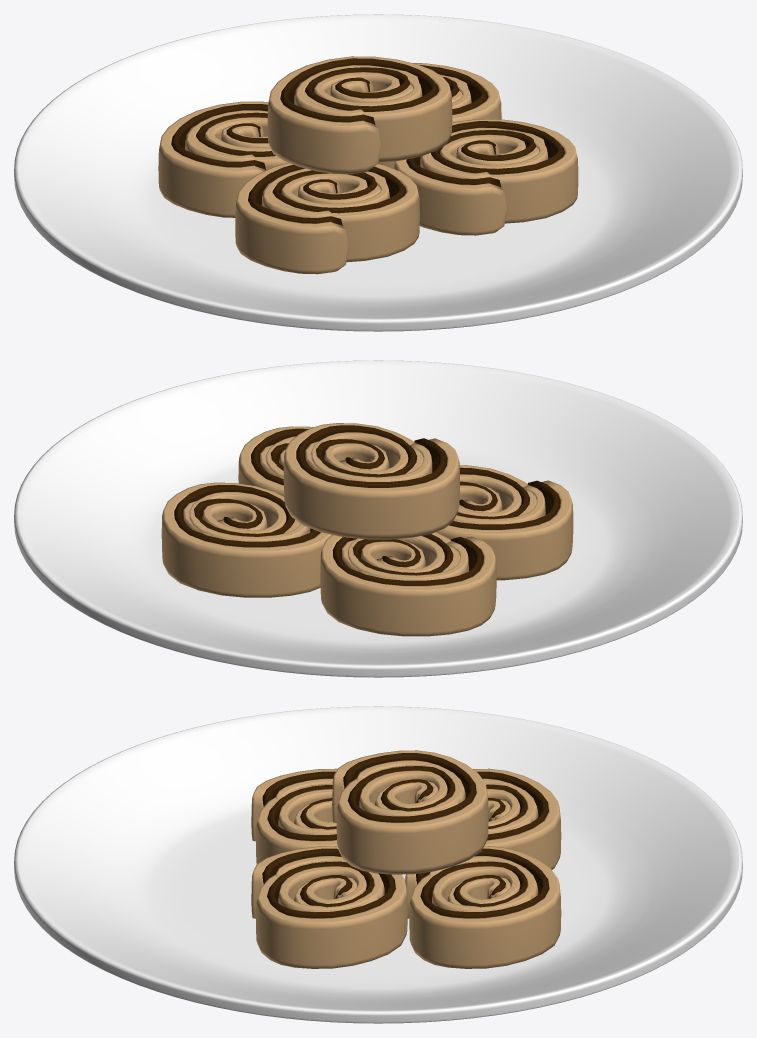
File: ee81005c-9917-4687-ad4f-ad5f6e23fdc7.glb
3 renders of one model, top to bottom at view 1: azimuth 30°, elevation 25°; view 2: azimuth 150°, elevation 25°; view 3: azimuth 270°, elevation 25°, orthographic.
Visible parts, largest first — view 1: ChamferCyl001, Line014, Line012, Line013, Line004, Line006; view 2: ChamferCyl001, Line014, Line004, Line006, Line012, Line013; view 3: ChamferCyl001, Line014, Line013, Line006, Line012, Line004.
Part boxes in pixels (x1,y1,x2,y2): ChamferCyl001: (14,14,742,331); Line014: (267,56,452,174); Line012: (235,163,419,274); Line013: (394,119,578,235); Line004: (158,101,287,217); Line006: (378,63,501,168); ChamferCyl001: (14,360,742,677); Line014: (283,423,459,539); Line004: (320,532,496,636); Line006: (161,482,331,597); Line012: (436,465,573,580); Line013: (238,426,313,496); ChamferCyl001: (14,706,742,1023); Line014: (332,750,488,874); Line013: (251,846,407,968); Line006: (405,846,561,968); Line012: (251,768,337,863); Line004: (473,768,561,869).
Size of the model in its own units: 123 by 21.52 by 123.
